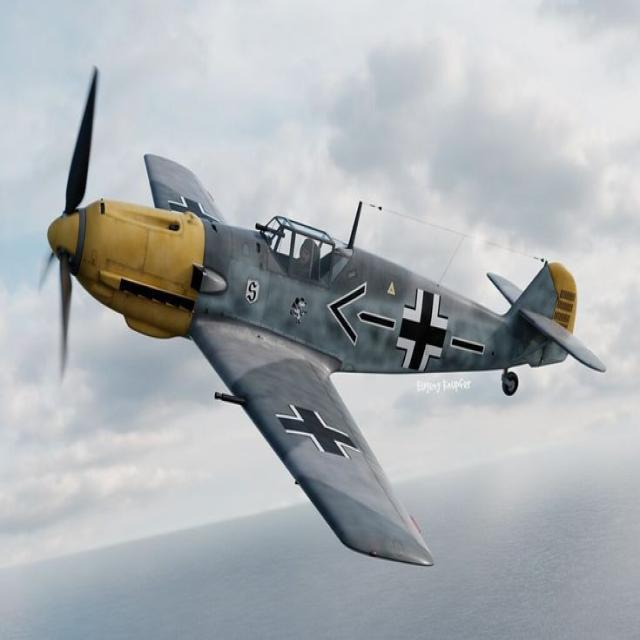iha: (36, 64, 608, 572)
